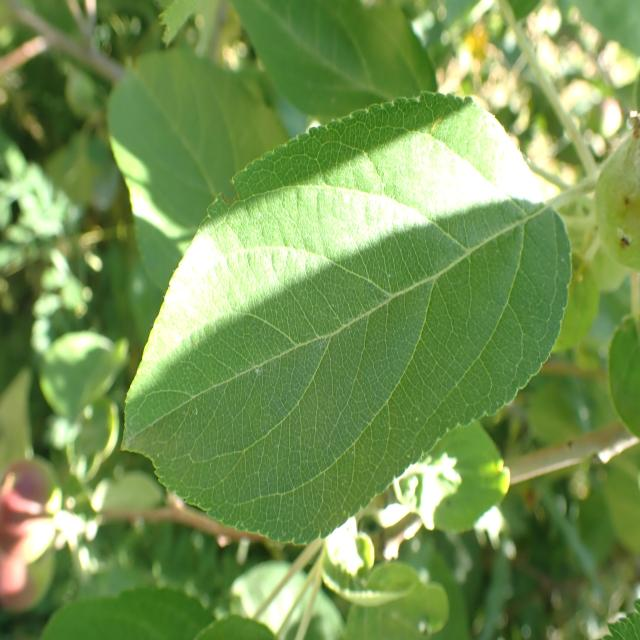healthy: (122, 89, 574, 547), (106, 48, 291, 299), (230, 0, 438, 126), (396, 418, 510, 534), (38, 585, 217, 640), (607, 313, 640, 441)
